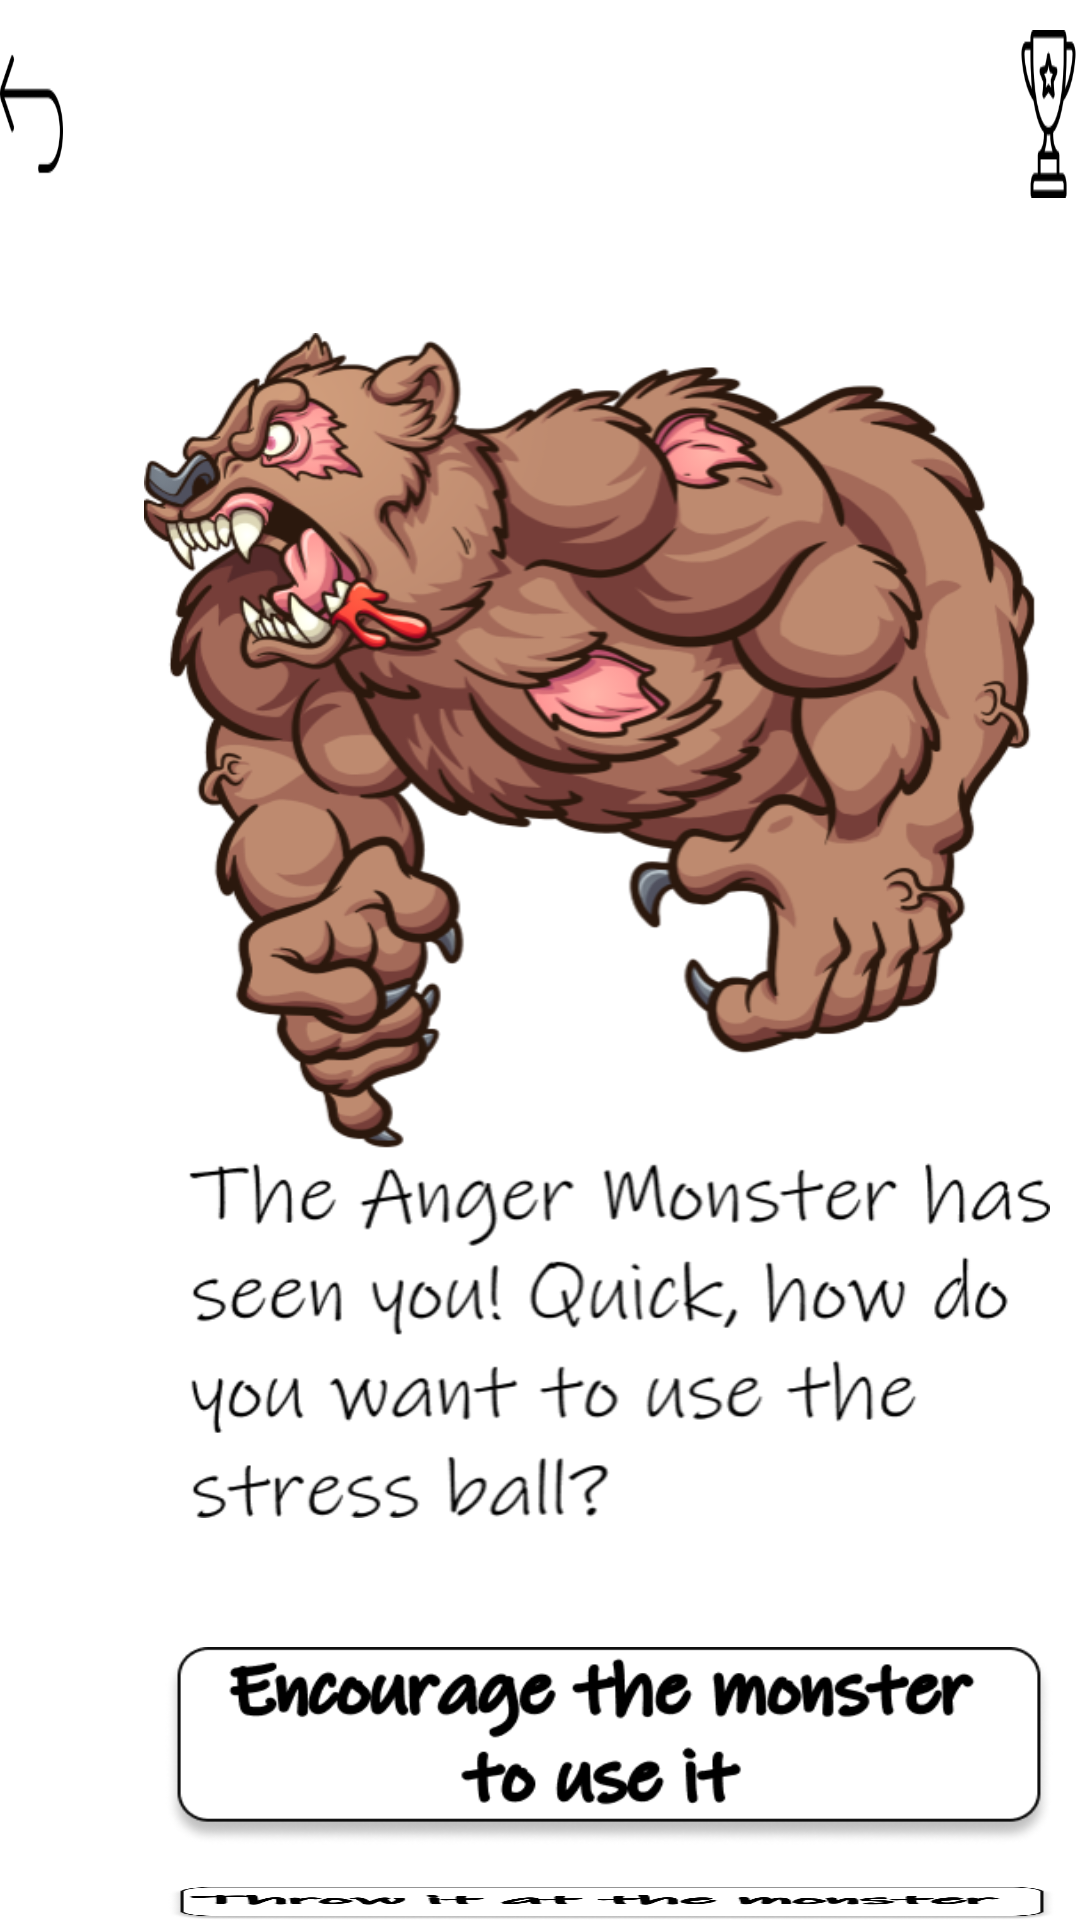

Point at icon controls on the screen. Image size 1080px×1920px, points as point (x, y).
trophy: point (1048, 114)
